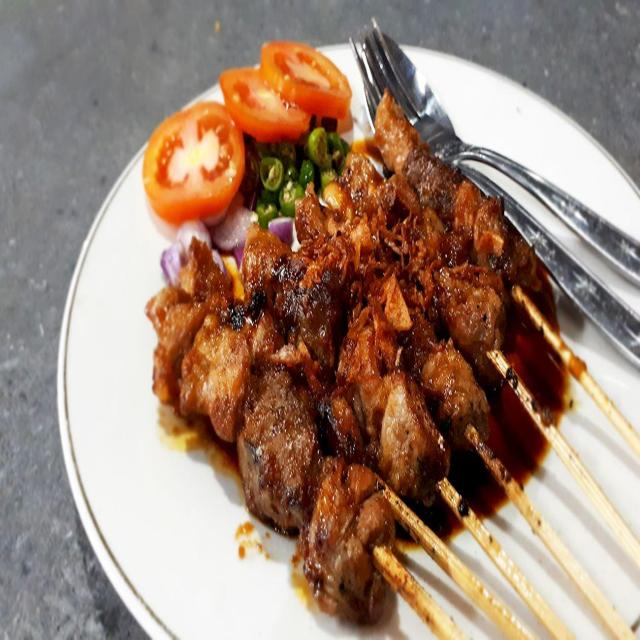Sate: (184, 96, 640, 639)
